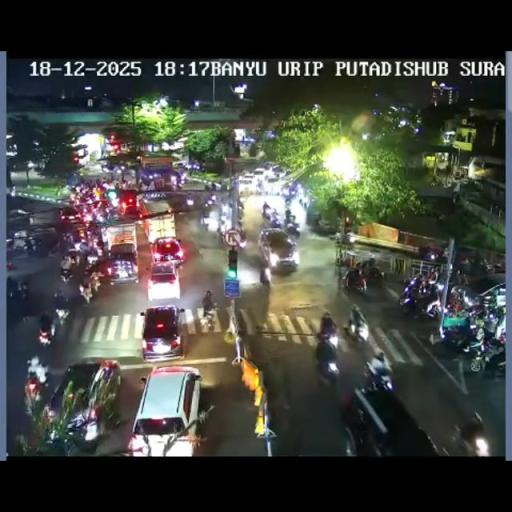Car: (342, 382, 440, 454), (127, 364, 203, 455), (46, 358, 122, 449), (138, 304, 185, 360), (258, 228, 298, 275), (146, 261, 182, 301), (107, 247, 139, 285), (150, 236, 185, 266), (140, 165, 181, 190), (475, 280, 506, 310), (116, 189, 142, 216), (59, 206, 80, 224), (237, 174, 254, 194), (265, 172, 280, 191), (274, 166, 292, 178), (262, 162, 276, 170)
Motorcycle: (8, 275, 69, 347), (399, 276, 442, 318), (462, 333, 504, 375), (436, 314, 477, 351), (454, 412, 488, 454), (314, 346, 341, 388), (363, 360, 394, 392), (24, 369, 47, 405), (342, 266, 369, 294), (452, 250, 478, 277), (346, 315, 370, 343), (76, 241, 100, 266), (446, 287, 468, 313), (318, 326, 339, 351), (199, 304, 218, 330), (418, 244, 444, 263), (262, 207, 282, 229), (88, 270, 104, 296), (283, 217, 301, 237), (468, 302, 488, 320), (54, 304, 70, 326), (230, 228, 246, 250), (356, 256, 375, 274), (38, 321, 52, 345), (59, 257, 73, 281), (219, 200, 233, 224), (337, 228, 355, 246), (24, 236, 40, 256), (6, 276, 18, 302), (78, 282, 92, 304), (216, 224, 230, 245), (17, 279, 29, 302), (91, 208, 107, 225), (482, 260, 500, 275), (62, 232, 75, 251), (455, 271, 470, 287), (200, 205, 212, 225), (260, 262, 270, 284), (66, 248, 80, 263), (427, 267, 440, 283), (204, 193, 217, 208), (282, 186, 294, 202), (254, 180, 265, 195), (236, 202, 244, 222), (298, 194, 308, 209), (196, 242, 204, 258), (211, 181, 222, 191), (140, 180, 148, 191), (176, 178, 182, 190), (204, 183, 211, 191)
